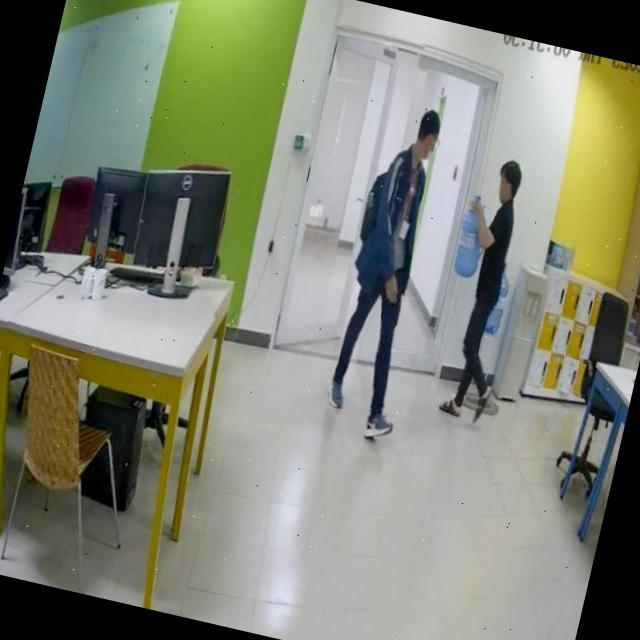person: (313, 92, 458, 442), (434, 154, 538, 423)
